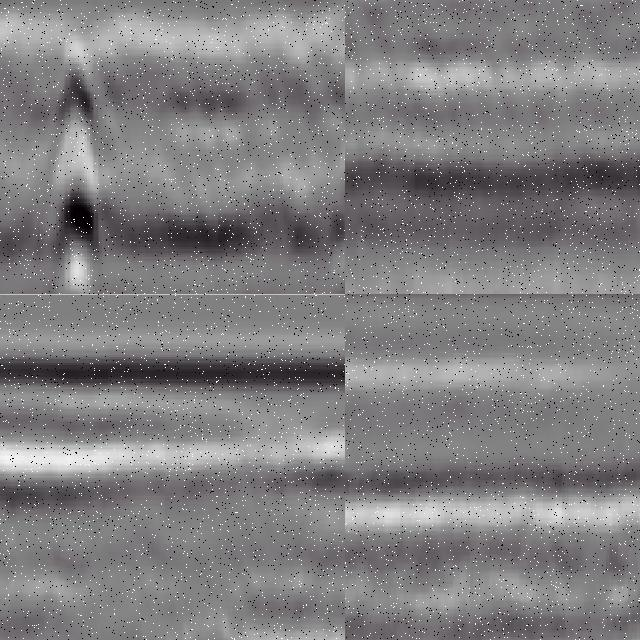crack: (50, 21, 101, 295)
